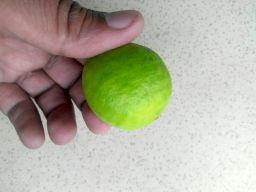lemon: (72, 32, 183, 138)
